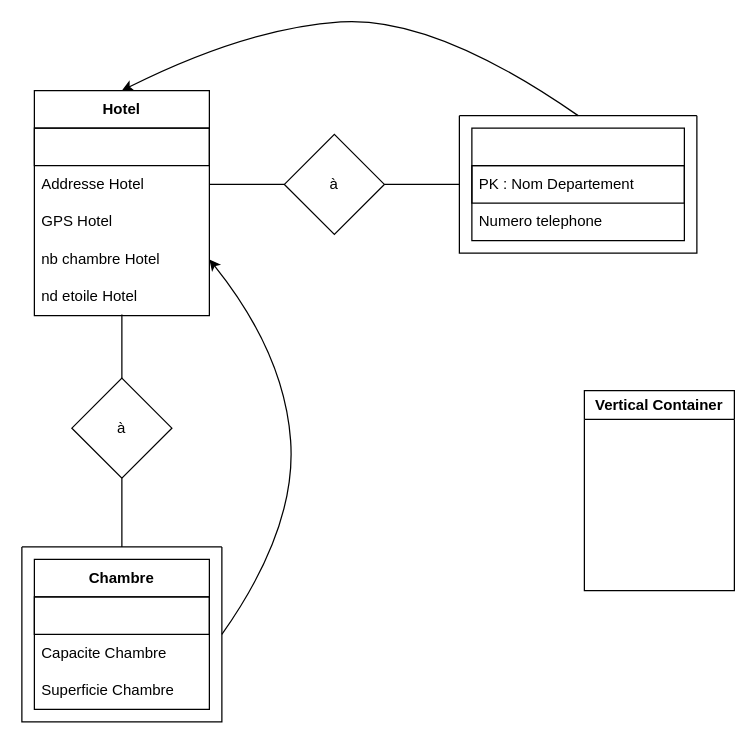
Image size: 756x745. Some labels were removed from this diagram. The shapes that lost their labels are listed below. From the top down, each one's box as (x1, y1, x2, y2) in pixels, then its label:
(33, 127, 209, 166): PK : Nom Hotel
(471, 127, 684, 241): Département
(33, 596, 209, 634): PK : Numéro Chambre
